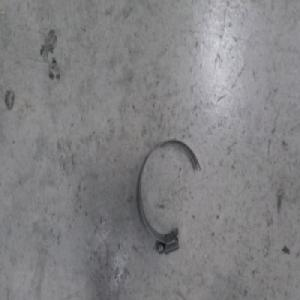AdjustableClamp: (136, 138, 201, 255)
